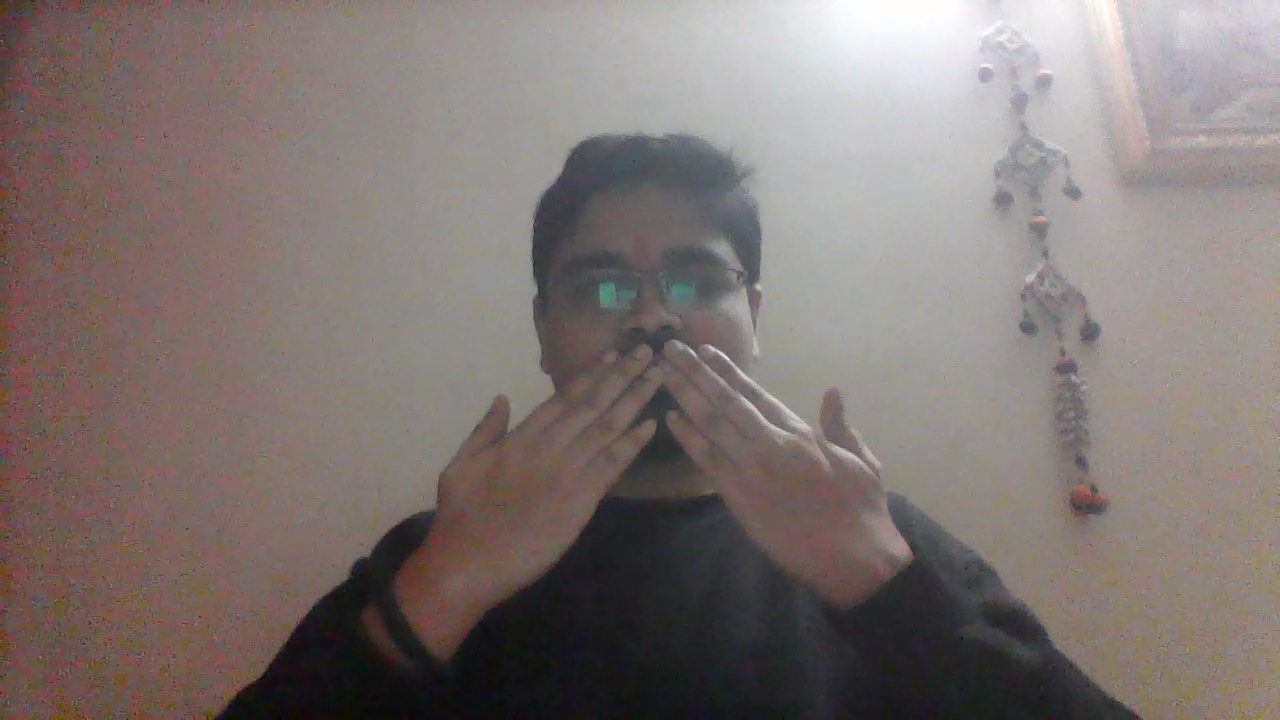Thanks: (421, 335, 893, 588)
